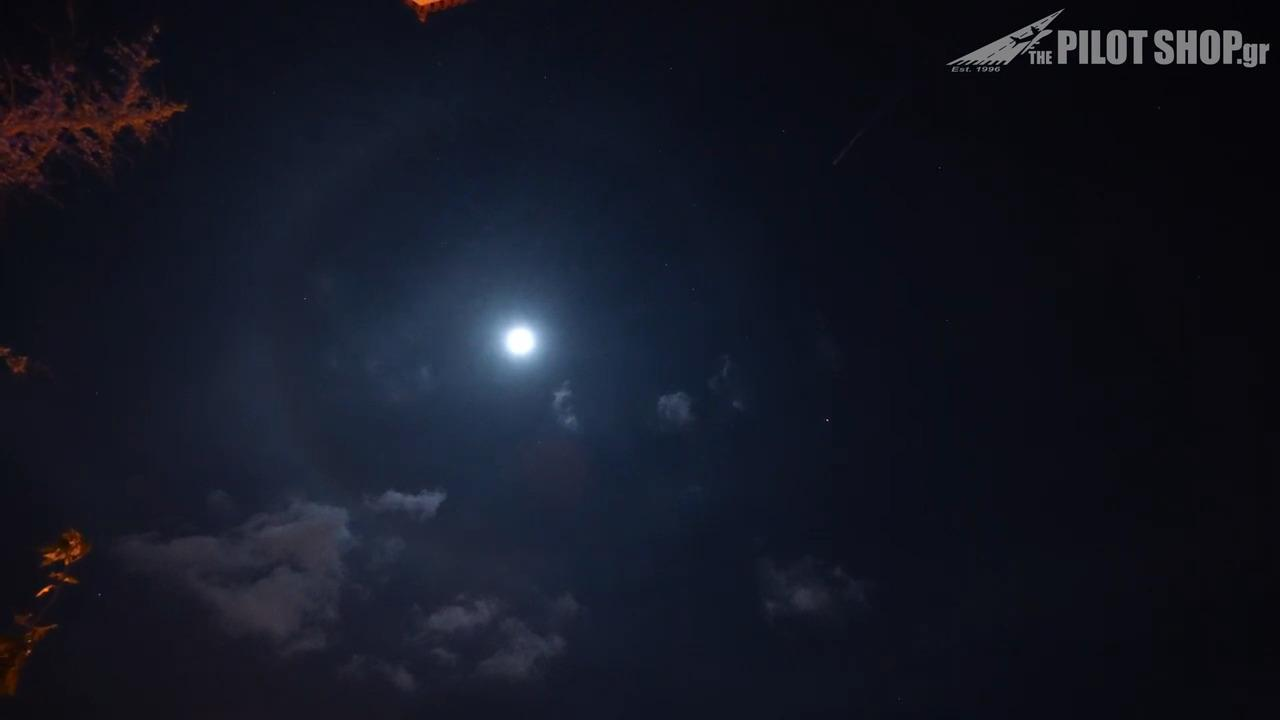Plane: (820, 128, 875, 170)
